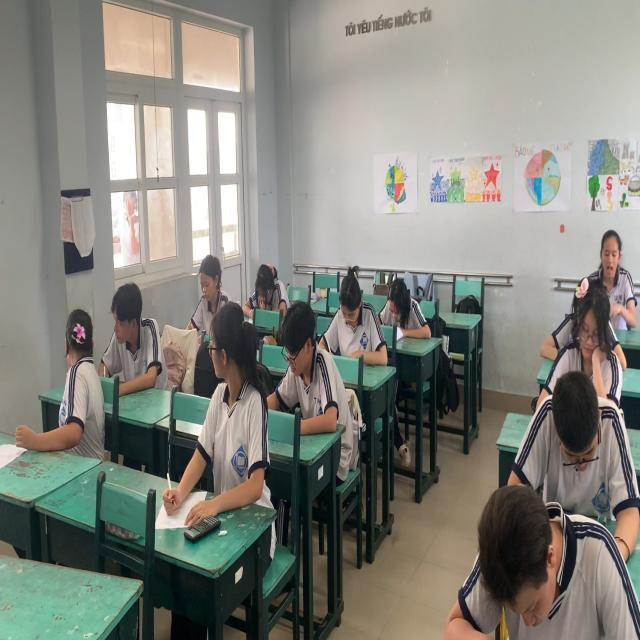cheating: (198, 295, 268, 506), (47, 301, 104, 458)
not_cheating: (471, 466, 621, 640), (528, 366, 626, 514), (275, 304, 342, 438), (101, 281, 158, 395), (564, 281, 619, 397), (332, 261, 372, 371), (593, 217, 634, 310), (380, 272, 427, 352), (194, 251, 232, 323), (247, 255, 286, 318)
